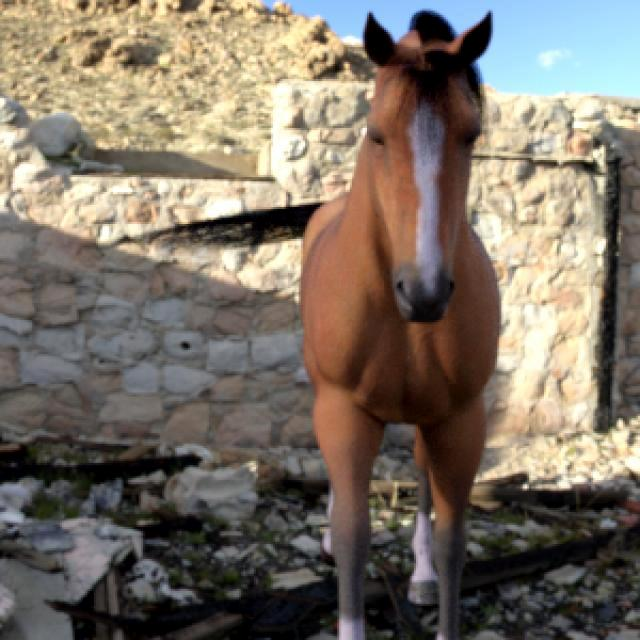horse: (301, 11, 500, 639)
